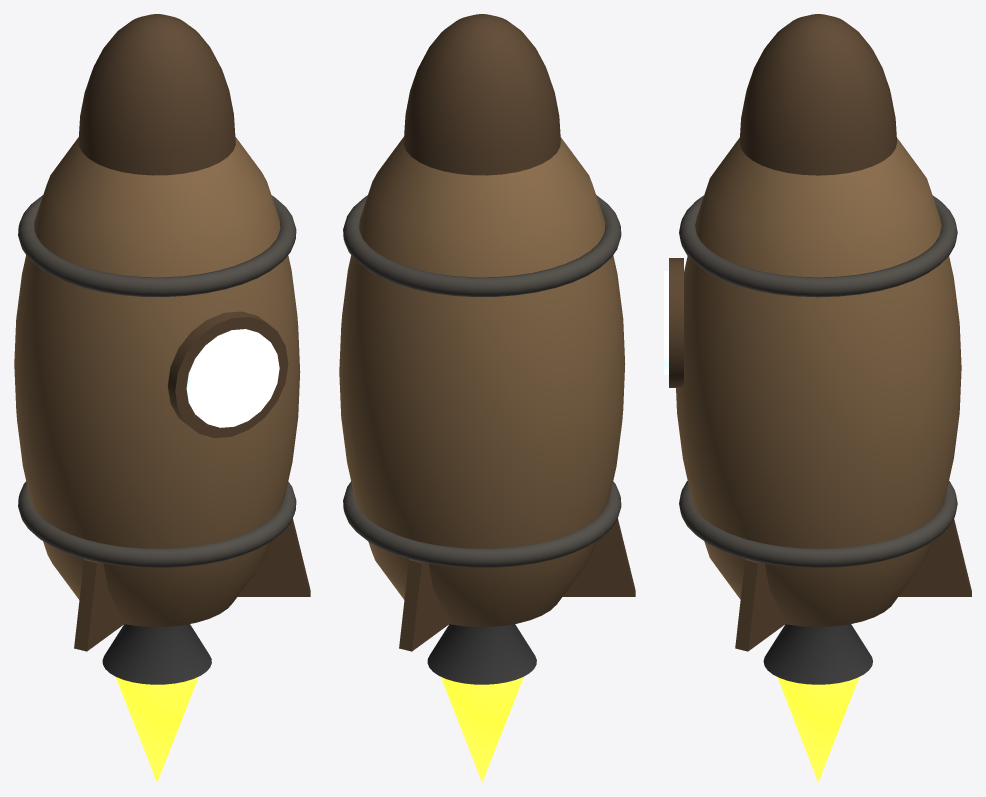
Rendered from Rocket_02_BrassBarrel.fbx.
The picture shows the model from 3 angles, left to right: view 1: azimuth 30°, elevation 25°; view 2: azimuth 150°, elevation 25°; view 3: azimuth 270°, elevation 25°; orthographic projection.
Visible parts, largest first — view 1: R02_Body, R02_Nose, R02_Window_1, R02_Ring_2, R02_Ring_1, R02_Nozzle_1, R02_WindowFrame_1, R02_Flame_1, R02_Fin_3, R02_Fin_2; view 2: R02_Body, R02_Nose, R02_Ring_2, R02_Ring_1, R02_Nozzle_1, R02_Flame_1, R02_Fin_2, R02_Fin_1; view 3: R02_Body, R02_Nose, R02_Ring_2, R02_Ring_1, R02_Nozzle_1, R02_Flame_1, R02_Fin_1, R02_Fin_3, R02_WindowFrame_1.
Boxes of the visible parts, box(x1,y1,x2,y2) form: R02_Body: box(14, 137, 300, 626); R02_Nose: box(78, 14, 235, 175); R02_Window_1: box(186, 329, 279, 427); R02_Ring_2: box(18, 195, 296, 296); R02_Ring_1: box(18, 481, 296, 567); R02_Nozzle_1: box(102, 624, 211, 684); R02_WindowFrame_1: box(167, 311, 288, 437); R02_Flame_1: box(115, 677, 198, 782); R02_Fin_3: box(237, 518, 310, 596); R02_Fin_2: box(74, 559, 124, 651); R02_Body: box(339, 137, 625, 626); R02_Nose: box(403, 14, 560, 175); R02_Ring_2: box(343, 195, 621, 296); R02_Ring_1: box(343, 481, 621, 567); R02_Nozzle_1: box(427, 624, 536, 684); R02_Flame_1: box(441, 677, 523, 782); R02_Fin_2: box(562, 518, 635, 596); R02_Fin_1: box(399, 559, 449, 651); R02_Body: box(676, 137, 961, 627); R02_Nose: box(739, 14, 896, 175); R02_Ring_2: box(679, 195, 957, 297); R02_Ring_1: box(679, 481, 957, 568); R02_Nozzle_1: box(763, 624, 872, 684); R02_Flame_1: box(777, 677, 859, 782); R02_Fin_1: box(898, 519, 971, 596); R02_Fin_3: box(735, 559, 785, 651); R02_WindowFrame_1: box(669, 258, 683, 387).
Size of the model in its own units: 2.3 by 6.77 by 2.47.
